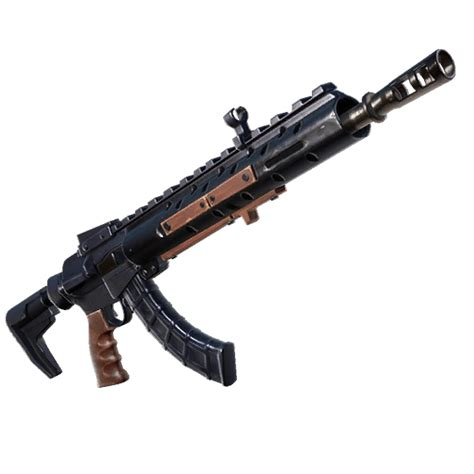gun: (5, 48, 458, 386)
